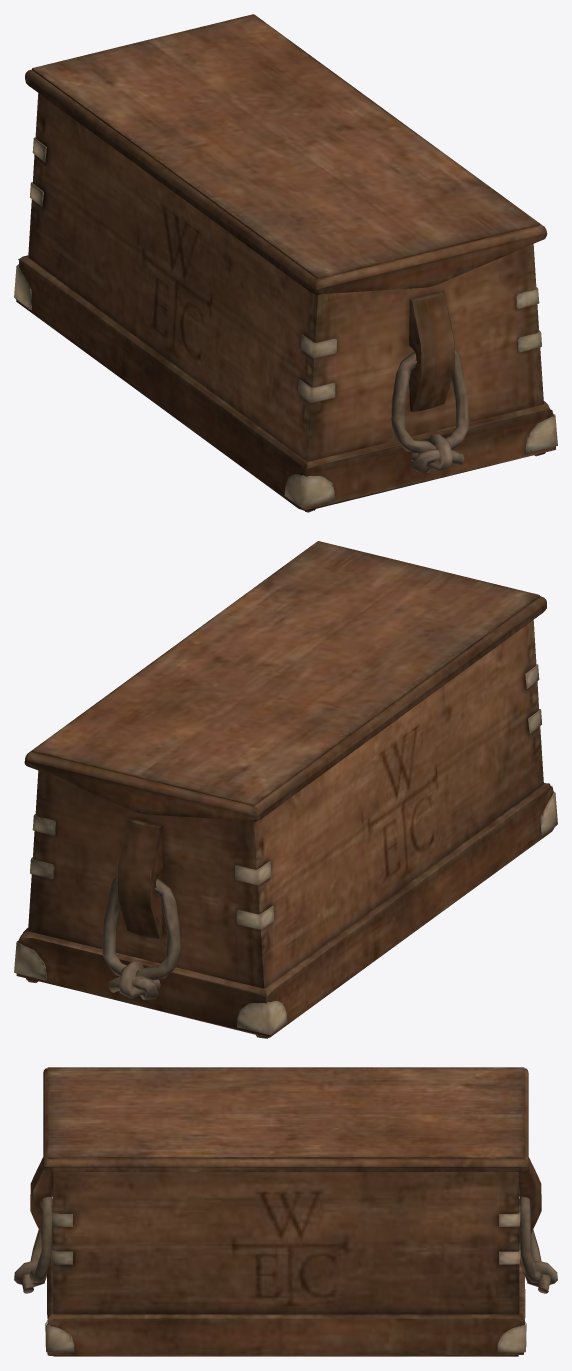
File: crate_large.glb
The picture shows the model from 3 angles, top to bottom: view 1: azimuth 30°, elevation 25°; view 2: azimuth 150°, elevation 25°; view 3: azimuth 270°, elevation 25°; orthographic projection. The views are drawn at different scales.
Visible parts, largest first — view 1: wooden_crate_02_crate, wooden_crate_02_lid; view 2: wooden_crate_02_crate, wooden_crate_02_lid; view 3: wooden_crate_02_crate, wooden_crate_02_lid.
Boxes of the visible parts, x1,y1,x2,y2 form: wooden_crate_02_crate: [14, 93, 557, 512]; wooden_crate_02_lid: [25, 14, 547, 295]; wooden_crate_02_crate: [14, 620, 557, 1038]; wooden_crate_02_lid: [24, 541, 546, 821]; wooden_crate_02_crate: [14, 1157, 557, 1356]; wooden_crate_02_lid: [43, 1067, 528, 1171].
Size of the model in its own units: 0.5291 by 0.4641 by 1.17.
Materials: 1 (1 with a texture image).
